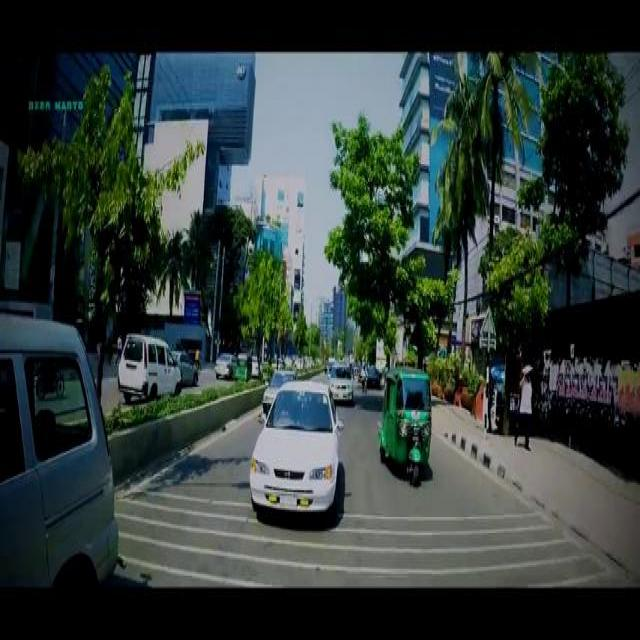vehicle: (249, 379, 338, 513), (378, 365, 432, 484), (117, 332, 182, 396), (261, 369, 295, 408), (330, 361, 353, 399), (174, 350, 200, 382), (234, 350, 252, 378), (214, 353, 236, 375)
